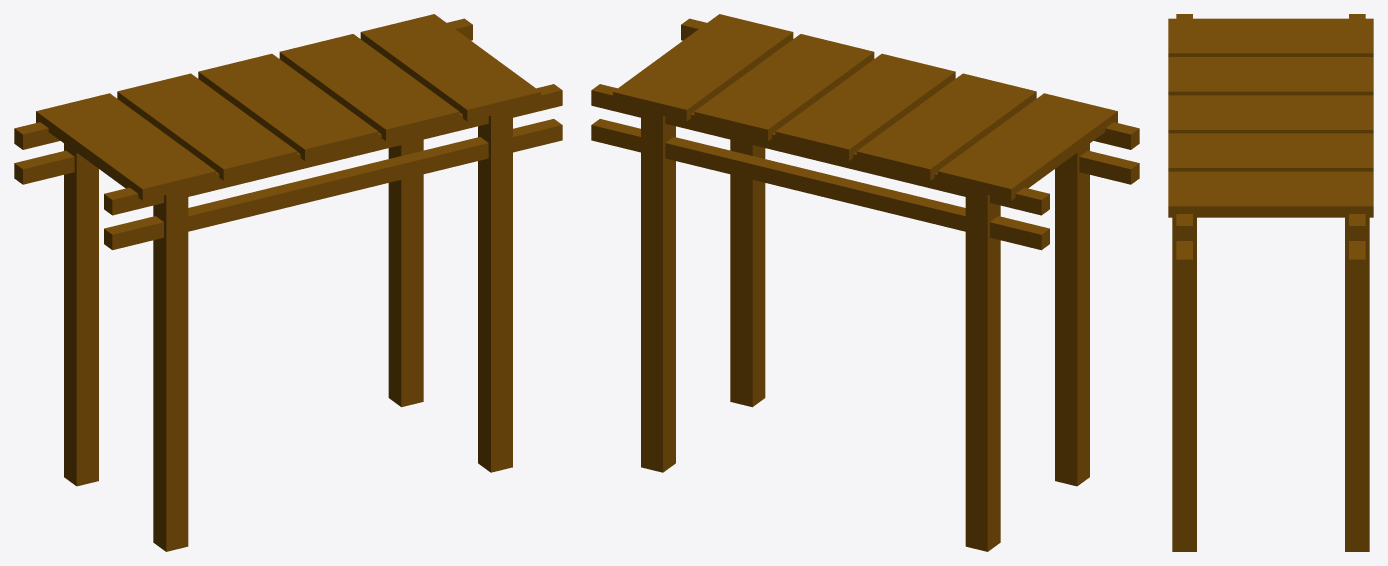
File: bridge_short.fbx
3 views of the same model, side by side, from view 1: azimuth 30°, elevation 25°; view 2: azimuth 150°, elevation 25°; view 3: azimuth 270°, elevation 25° (orthographic). The views are drawn at different scales.
Visible parts, largest first — view 1: Bridge Short; view 2: Bridge Short; view 3: Bridge Short.
Boxes of the visible parts, bbox=[...] form: Bridge Short: bbox=[14, 14, 562, 551]; Bridge Short: bbox=[591, 14, 1139, 551]; Bridge Short: bbox=[1168, 14, 1373, 551].
Size of the model in its own units: 1220 by 960 by 500.
